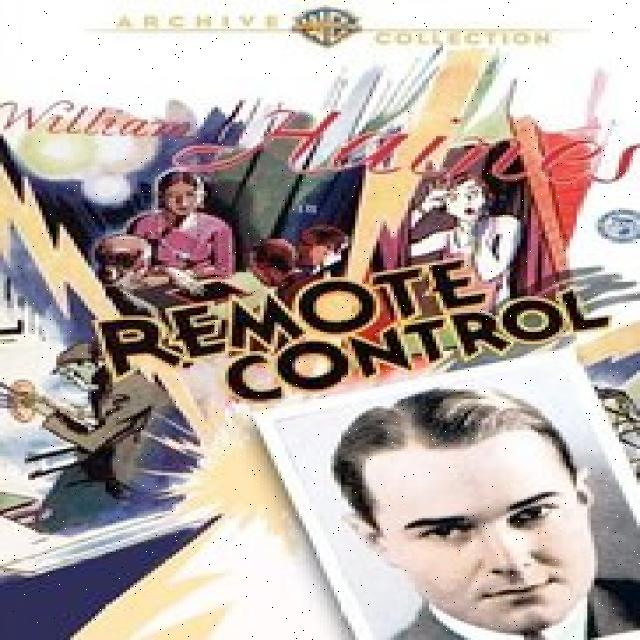movie-judul: (79, 264, 625, 398)
picture: (328, 396, 618, 636), (92, 173, 525, 267)
